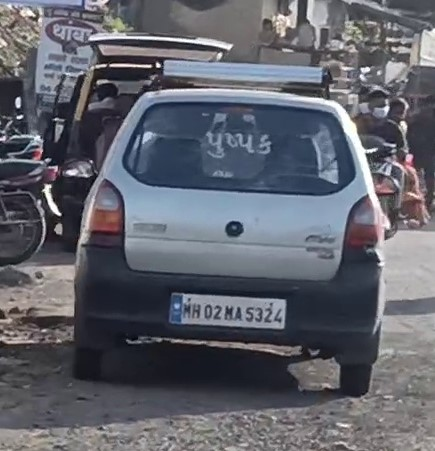MH02MA5324: (169, 293, 286, 330)
